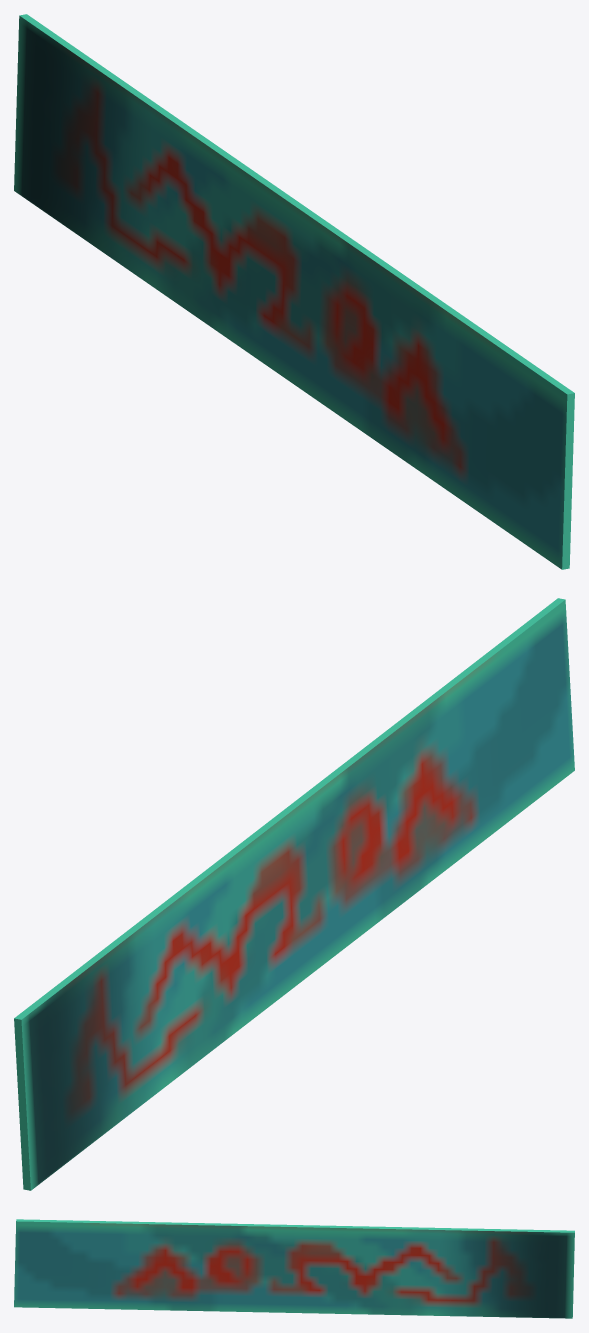
The model's file is FlagModel.fbx.
3 renders of one model, top to bottom at view 1: azimuth 30°, elevation 25°; view 2: azimuth 150°, elevation 25°; view 3: azimuth 270°, elevation 25°, orthographic. The views are drawn at different scales.
Parts seen in each view (by area): view 1: polySurface1; view 2: polySurface1; view 3: polySurface1.
Part boxes in pixels (<box>): polySurface1: <box>14,14,574,569</box>; polySurface1: <box>14,598,574,1190</box>; polySurface1: <box>14,1219,574,1318</box>.
Size of the model in its own units: 0.0907 by 1.13 by 5.77.
Materials: 1 (1 with a texture image).
